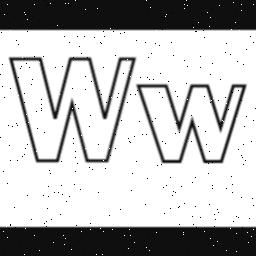w: (7, 50, 137, 166), (136, 80, 250, 166)
